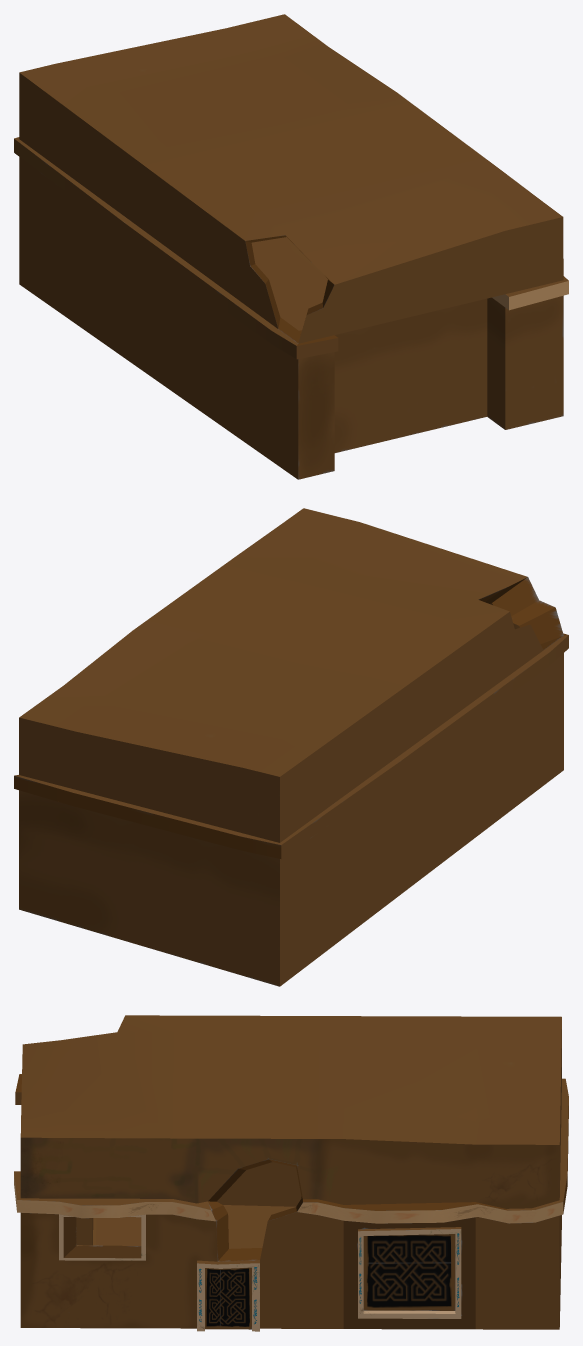
Rendered from Building01.fbx.
3 views of the same model, one above another, from view 1: azimuth 30°, elevation 25°; view 2: azimuth 150°, elevation 25°; view 3: azimuth 270°, elevation 25° (orthographic). The views are drawn at different scales.
Parts seen in each view (by area): view 1: polySurface136; view 2: polySurface136; view 3: polySurface136.
Boxes of the visible parts, x1,y1,x2,y2 form: polySurface136: (14, 14, 568, 479); polySurface136: (14, 508, 568, 986); polySurface136: (14, 1015, 568, 1331).
Size of the model in its own units: 137 by 95.29 by 237.
